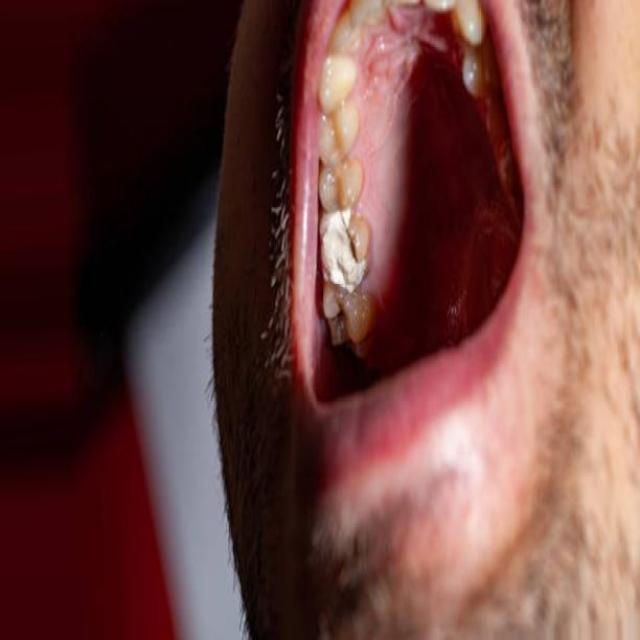caries: (316, 202, 367, 303)
